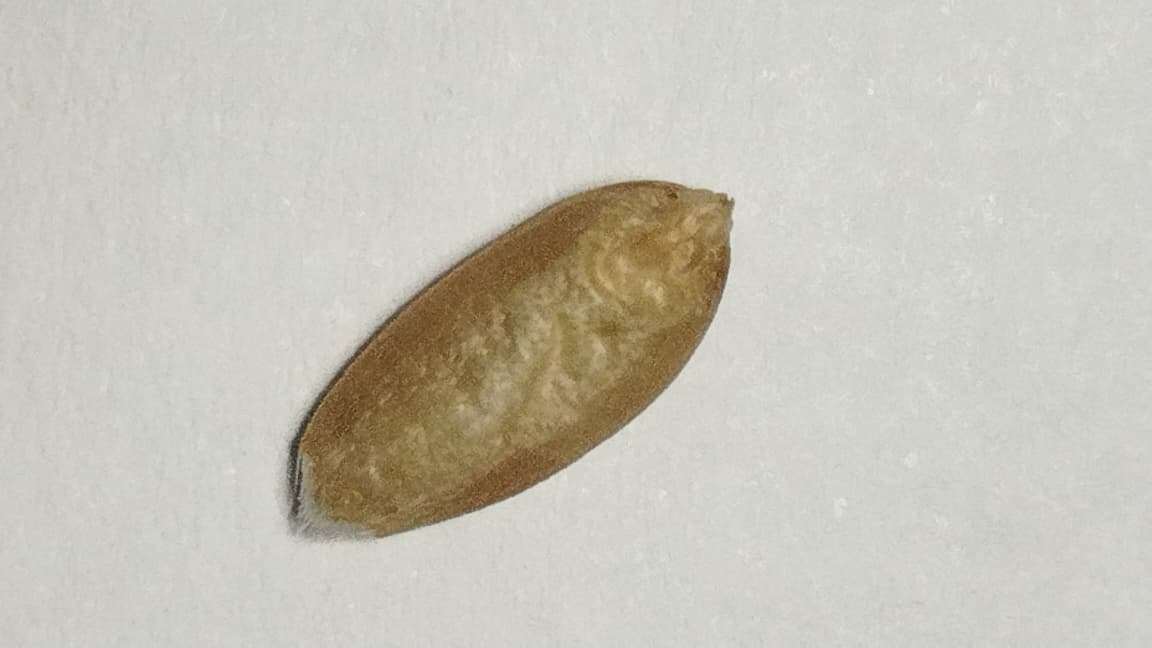healthy: (298, 182, 730, 527)
